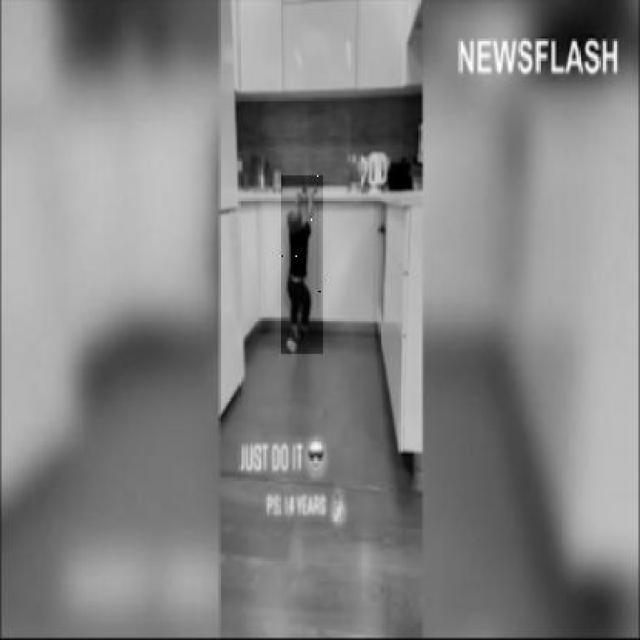child: (280, 175, 323, 353)
